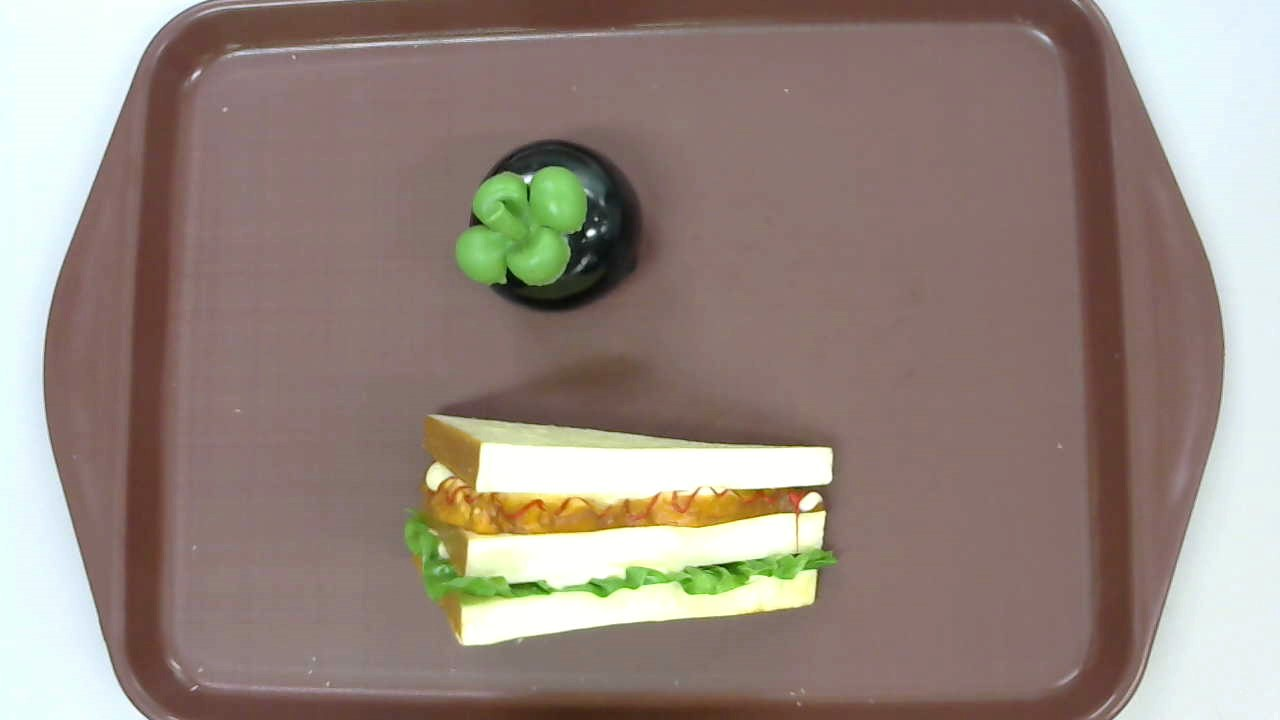mangosteen: (455, 140, 644, 313)
sandwich: (403, 410, 841, 647)
